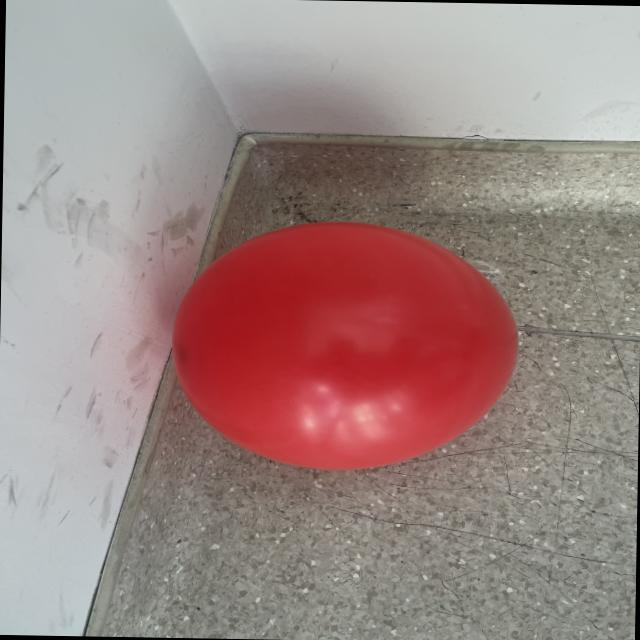balloon: (173, 222, 518, 469)
